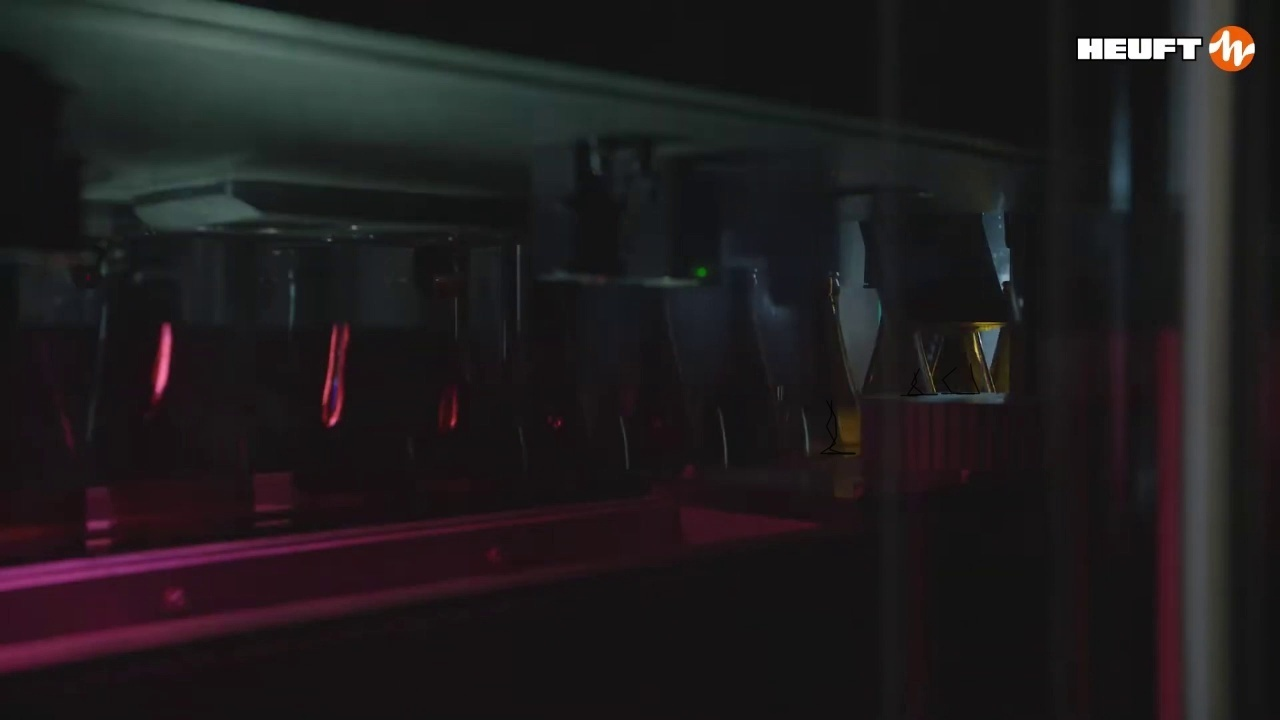bottle: (38, 30, 963, 378), (861, 312, 937, 393), (830, 271, 862, 456)
crack: (820, 400, 840, 453), (900, 368, 923, 395)
